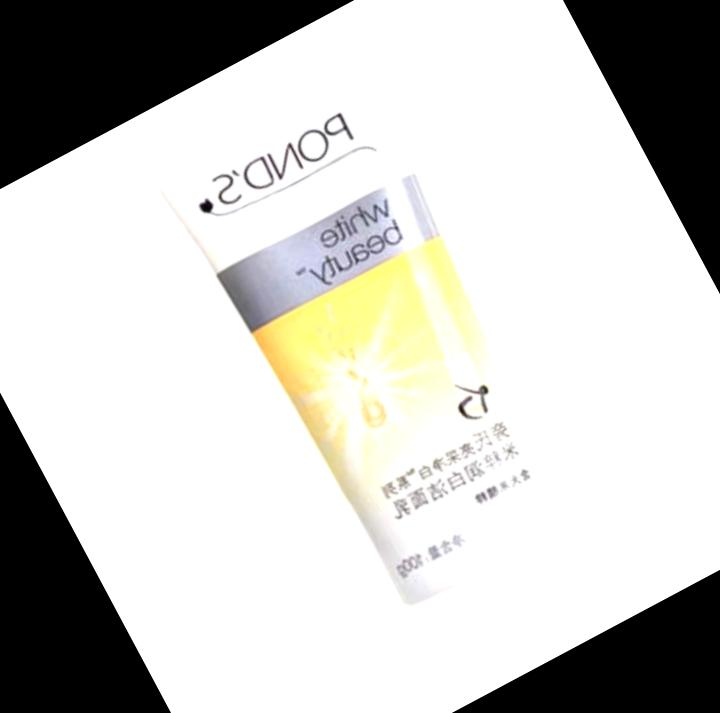cosmetic: (132, 30, 653, 700)
